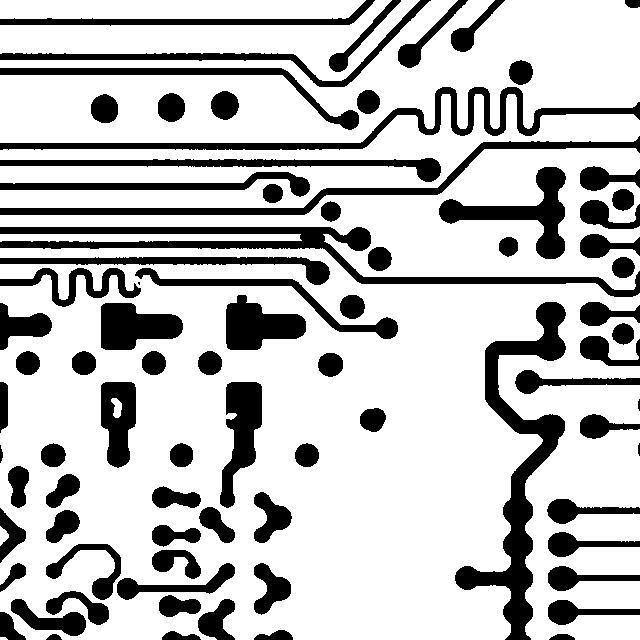copper: (350, 398, 395, 441)
mousebite: (214, 403, 246, 429)
open: (121, 266, 152, 297)
pin-hole: (101, 388, 131, 427)
short: (290, 221, 334, 256)
spur: (225, 285, 256, 320)
